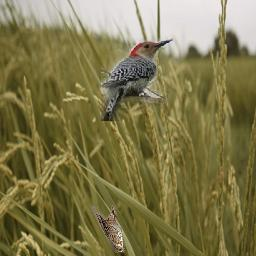Sparrow: (91, 205, 125, 254)
Woodpecker: (101, 39, 173, 122)
